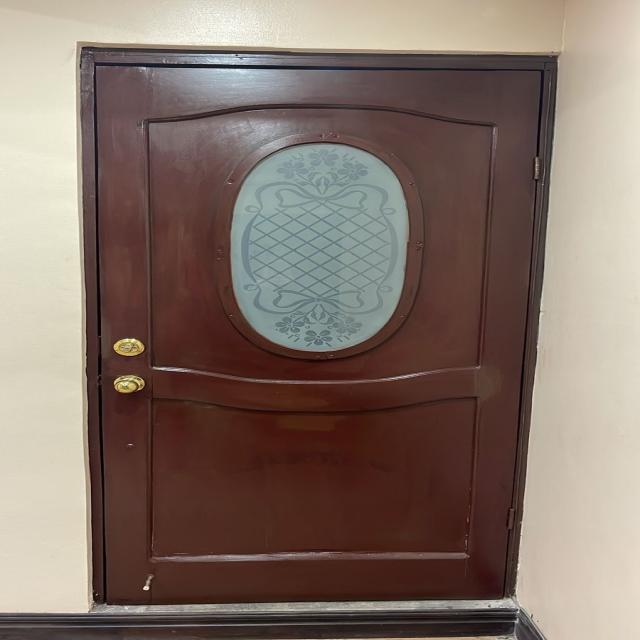ClosedDoor: (75, 41, 522, 597)
